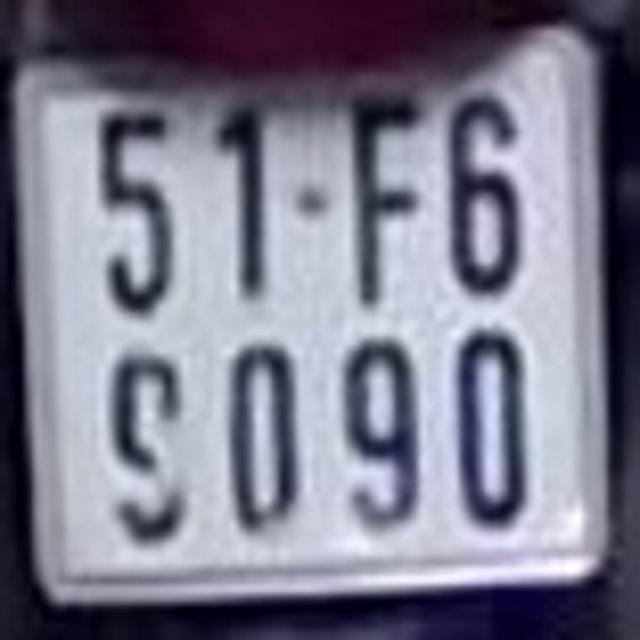0: (455, 321, 531, 529), (225, 327, 298, 532)
1: (213, 94, 276, 300)
5: (95, 90, 180, 317)
6: (445, 80, 522, 298)
9: (341, 323, 423, 543), (109, 342, 190, 544)
F: (348, 82, 421, 306)
